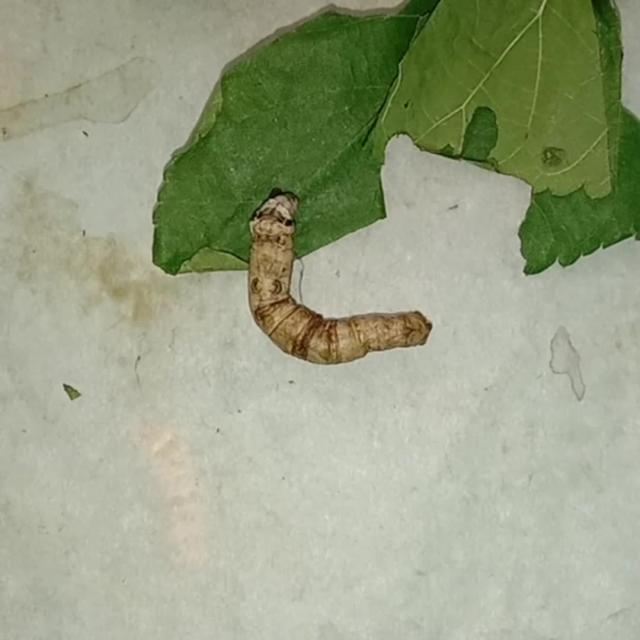Grasserie: (224, 158, 464, 402)
